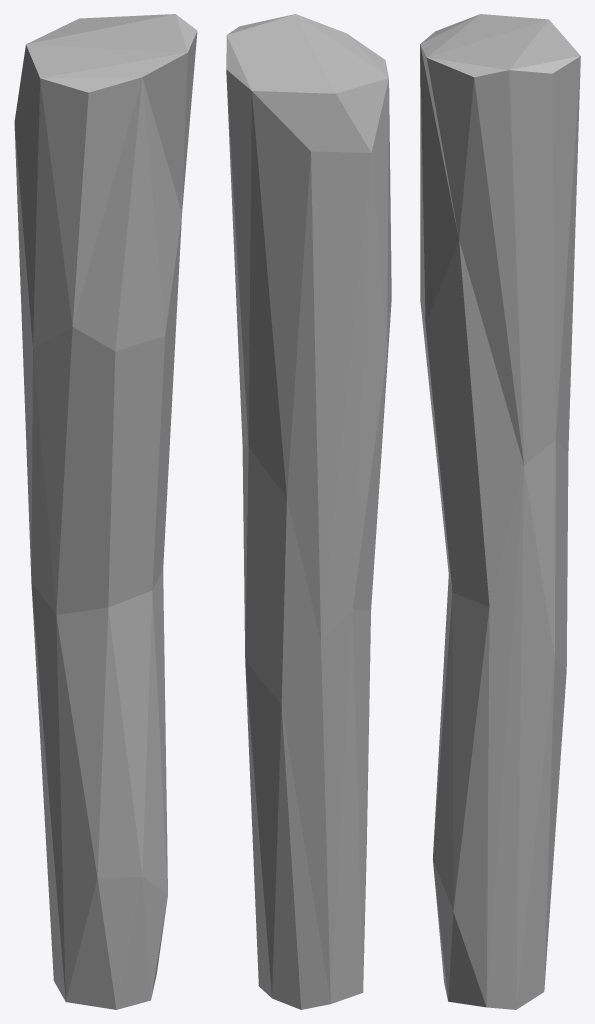
Rendered from Fence_04.fbx.
3 renders of one model, left to right at view 1: azimuth 30°, elevation 25°; view 2: azimuth 150°, elevation 25°; view 3: azimuth 270°, elevation 25°, orthographic.
Parts seen in each view (by area): view 1: Fence_04; view 2: Fence_04; view 3: Fence_04.
Part boxes in pixels (x1,y1,x2,y2): Fence_04: (14,14,197,1009); Fence_04: (226,14,391,1009); Fence_04: (420,14,580,1009).
Size of the model in its own units: 0.4619 by 2.65 by 0.4033.
